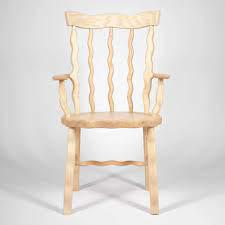chair: (48, 6, 173, 214)
